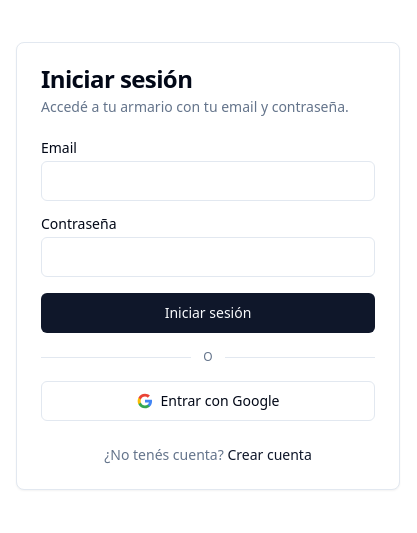
Scenario: LoginPage › no dispara el request si los campos están vacíos
Click the button "Iniciar sesión" at [208, 313], box [41,293,375,333]
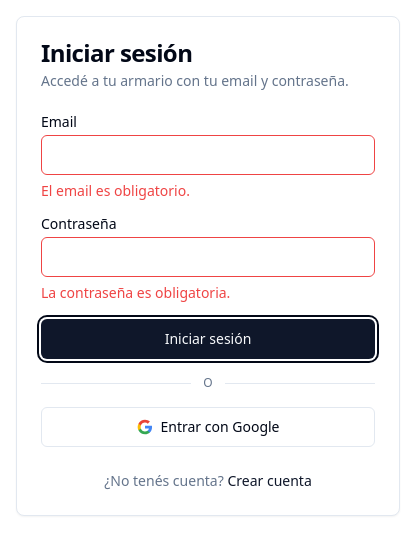
Expected: the text "El email es obligatorio." is shown, [41,181,190,200]
Expected: the text "La contraseña es obligatoria." is shown, [41,283,230,302]
